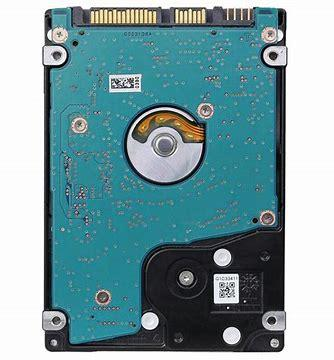internal HDD: (40, 6, 287, 355)
